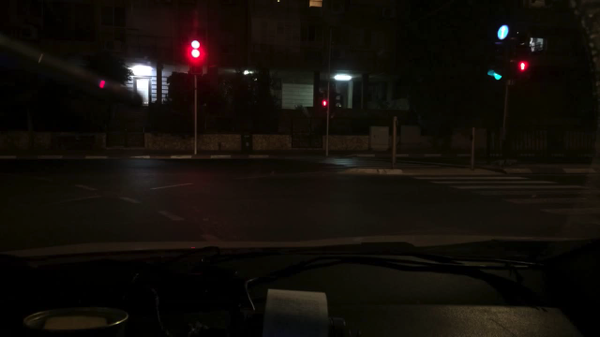traffic light: (487, 69, 503, 81), (97, 80, 109, 90), (189, 49, 200, 58), (191, 40, 201, 48), (518, 63, 526, 72), (320, 100, 327, 106)
traffic sign: (495, 24, 510, 40)
